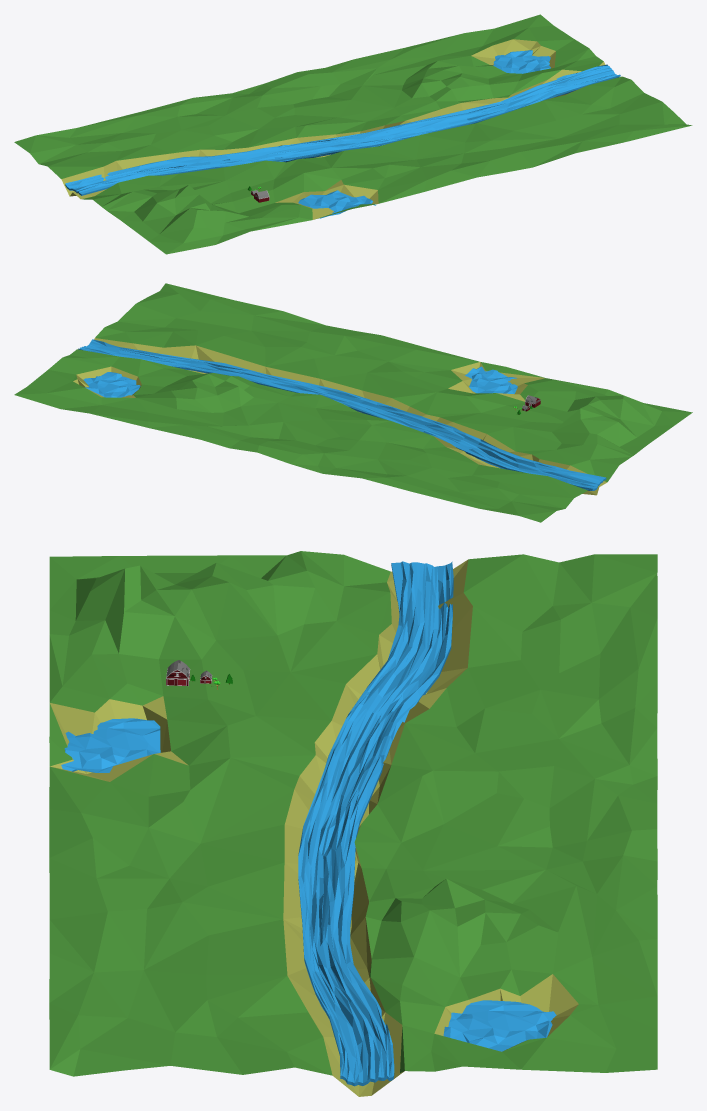
File: map_ecoworld.fbx
The picture shows the model from 3 angles, top to bottom: view 1: azimuth 30°, elevation 25°; view 2: azimuth 150°, elevation 25°; view 3: azimuth 270°, elevation 25°; orthographic projection. The views are drawn at different scales.
Visible parts, largest first — view 1: plaine, riviere, lac1, lac2; view 2: plaine, riviere, lac1, lac2; view 3: plaine, riviere, lac1, lac2.
Part boxes in pixels (<box>): plaine: <box>14,14,692,254</box>; riviere: <box>65,64,620,195</box>; lac1: <box>493,50,550,73</box>; lac2: <box>298,190,375,218</box>; plaine: <box>14,283,692,522</box>; riviere: <box>78,339,606,490</box>; lac1: <box>83,372,140,397</box>; lac2: <box>465,366,517,393</box>; plaine: <box>49,551,657,1096</box>; riviere: <box>298,561,453,1086</box>; lac1: <box>443,1000,556,1051</box>; lac2: <box>61,718,160,772</box>.
Size of the model in its own units: 630 by 56.77 by 313.
